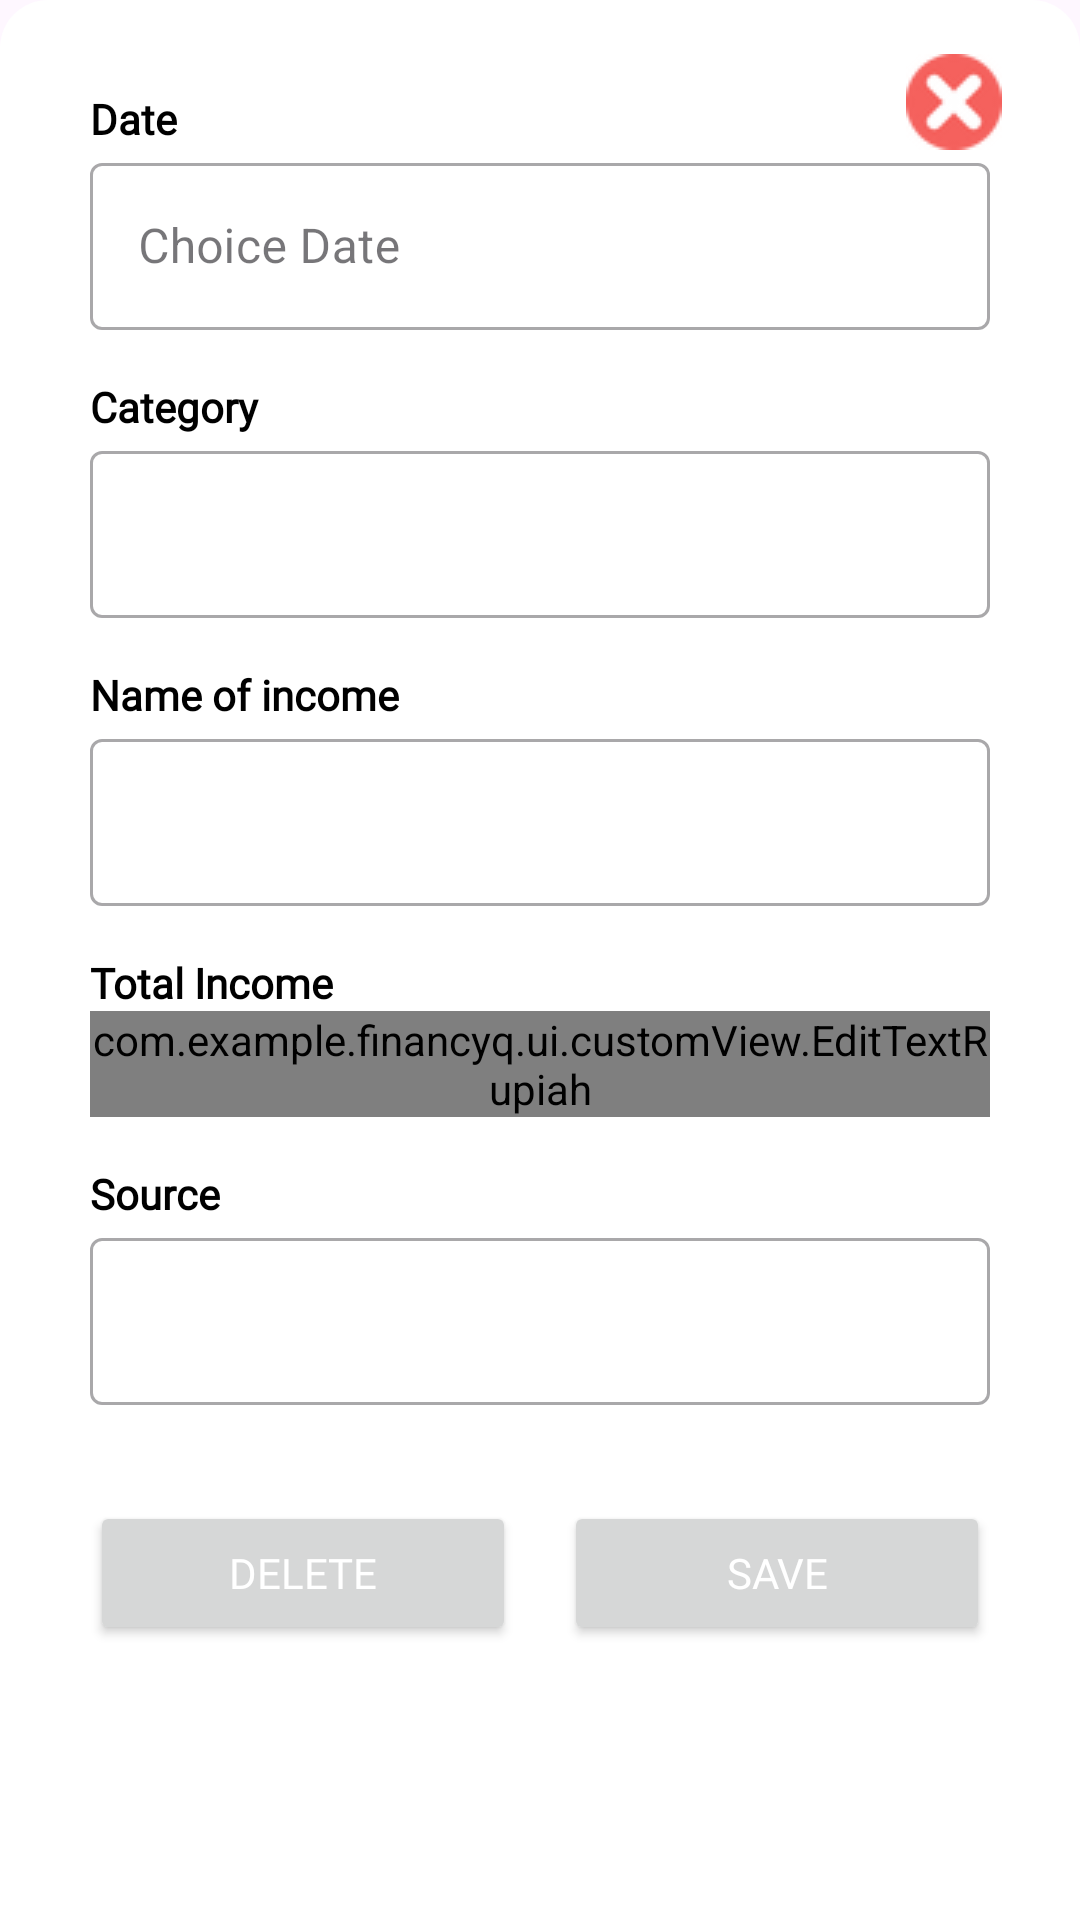

Point at icon controls on the screen. Image size 1080*1920, points as (x,y).
close: (954,102)
